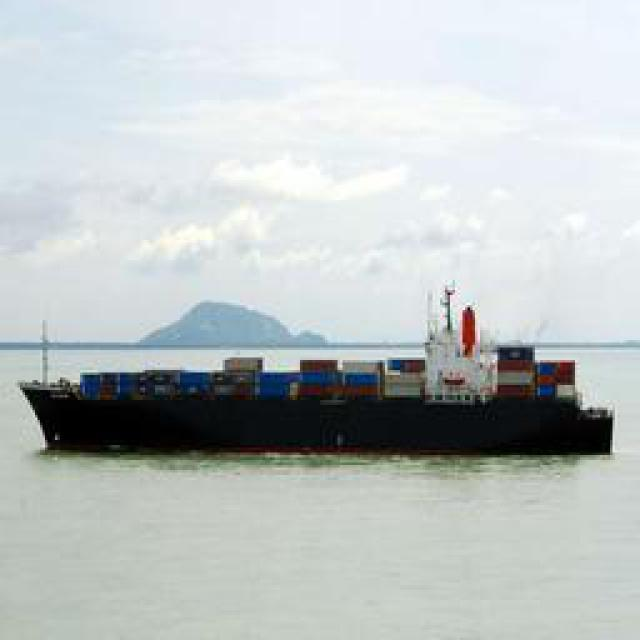Ship: (26, 356, 624, 451)
